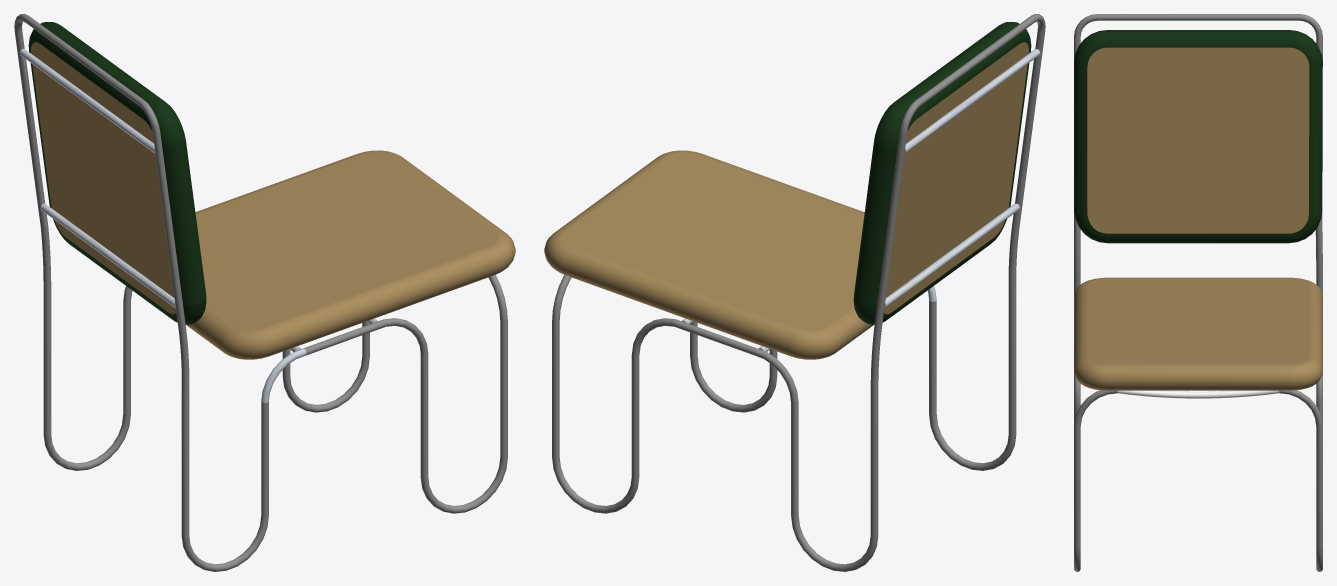
3 views of the same model, side by side, from view 1: azimuth 30°, elevation 25°; view 2: azimuth 150°, elevation 25°; view 3: azimuth 270°, elevation 25° (orthographic). The views are drawn at different scales.
Parts seen in each view (by area): view 1: Mesh4_Model; view 2: Mesh4_Model; view 3: Mesh4_Model.
Part boxes in pixels (box(x1,y1,x2,y2)): Mesh4_Model: box(14, 14, 515, 571); Mesh4_Model: box(544, 14, 1045, 571); Mesh4_Model: box(1074, 14, 1322, 571).
Size of the model in its own units: 0.8248 by 1 by 0.5375.
